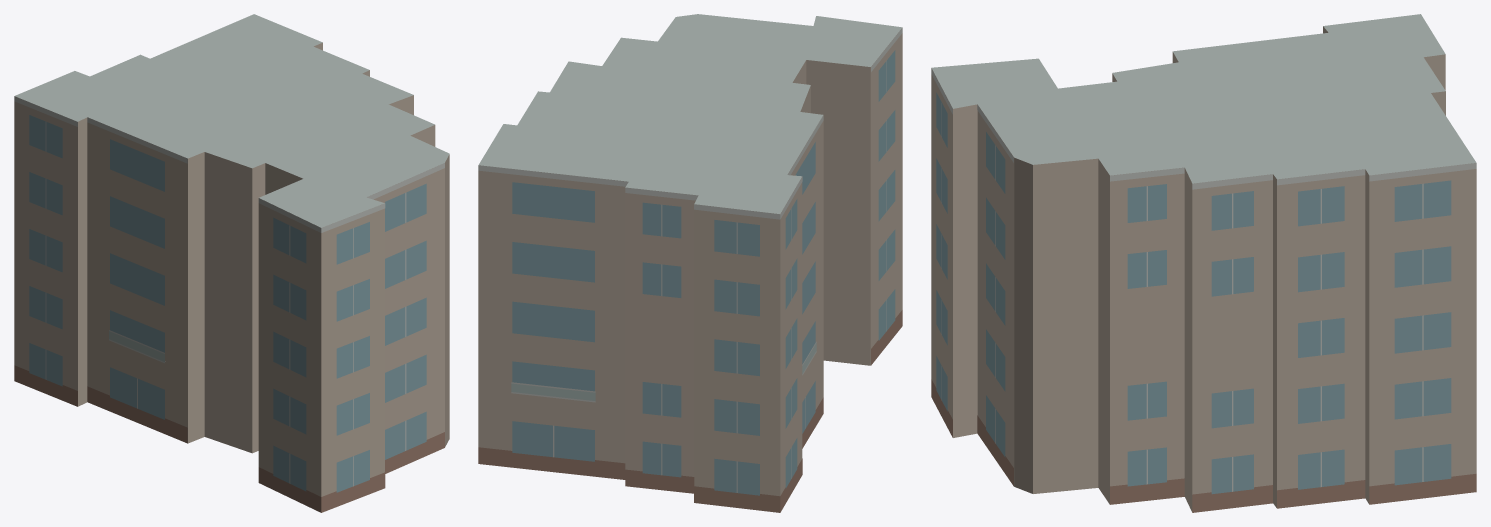
The model's file is survey-upis-33004578.glb.
The picture shows the model from 3 angles, left to right: view 1: azimuth 30°, elevation 25°; view 2: azimuth 150°, elevation 25°; view 3: azimuth 270°, elevation 25°; orthographic projection. The views are drawn at different scales.
Parts seen in each view (by area): view 1: survey-upis-33004578.tmp; view 2: survey-upis-33004578.tmp; view 3: survey-upis-33004578.tmp.
Boxes of the visible parts, x1,y1,x2,y2 form: survey-upis-33004578.tmp: (14,14,449,512); survey-upis-33004578.tmp: (478,14,902,512); survey-upis-33004578.tmp: (931,14,1476,512).
Bounding box in the file's own units: 14.7 × 13.3 × 19.97.
